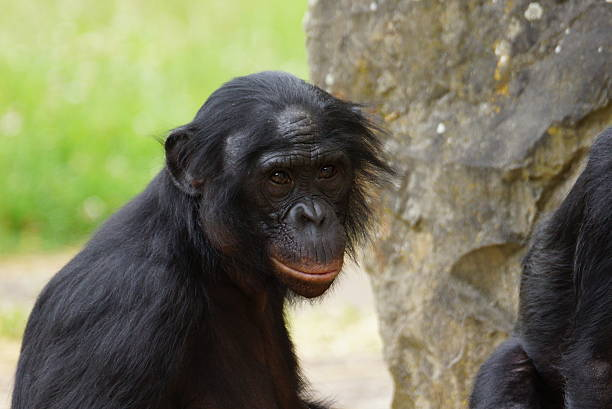chimpanzee: (124, 63, 391, 308)
